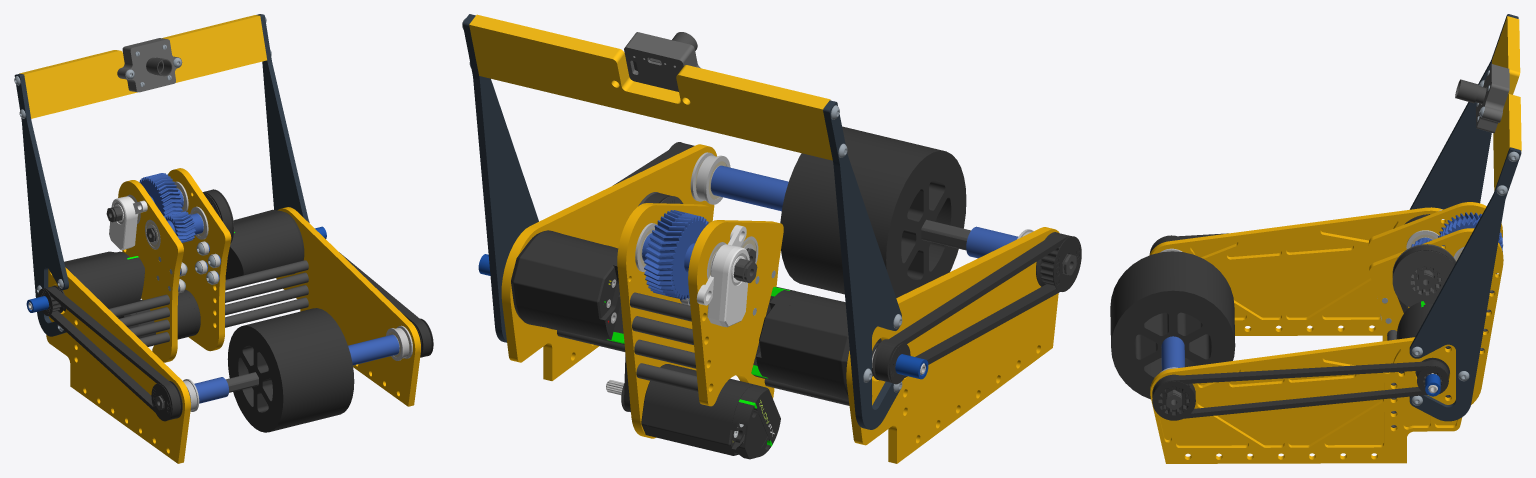
3 renders of one model, left to right at view 1: azimuth 30°, elevation 25°; view 2: azimuth 150°, elevation 25°; view 3: azimuth 270°, elevation 25°, orthographic. The views are drawn at different scales.
Visible parts, largest first — view 1: 157-26-ST-P-8 (×2), 4" Solid Urethane Wheel (45A, 1.5" Wide, 1/2" Hex Bore) (×2), Part 70, Part 69 (×2), Kraken X60 Brushless Motor (×2), 157-26-ST-P-15 (×6), 157-26-ST-P-9, REFERENCE ONLY (×3), 157-26-ST-P-10, New Lid, id30, 157-26-ST-P-5 (+6 smaller); view 2: 157-26-ST-P-8 (×2), Part 70, 4" Solid Urethane Wheel (45A, 1.5" Wide, 1/2" Hex Bore) (×2), Kraken X60 Brushless Motor (×2), Part 69 (×2), 157-26-ST-P-10, Kraken X44 Brushless Motor, 157-26-ST-P-9, REFERENCE ONLY, 157-26-ST-P-11 (×4), 157-26-ST-P-5, id30 (+8 smaller); view 3: 157-26-ST-P-8 (×2), Part 69 (×2), 4" Solid Urethane Wheel (45A, 1.5" Wide, 1/2" Hex Bore) (×2), REFERENCE ONLY (×2), 157-26-ST-P-9, Part 70, 157-26-ST-P-14, 157-26-ST-P-10, 157-26-ST-P-16, Kraken X60 Brushless Motor, New Lid, Base (+4 smaller).
Boxes of the visible parts, <box> form: 157-26-ST-P-8 (×2): <box>46,207,420,463</box>; 4" Solid Urethane Wheel (45A, 1.5" Wide, 1/2" Hex Bore) (×2): <box>227,308,354,432</box>; Part 70: <box>19,15,266,118</box>; Part 69 (×2): <box>14,14,309,336</box>; Kraken X60 Brushless Motor (×2): <box>28,209,304,311</box>; 157-26-ST-P-15 (×6): <box>109,260,308,327</box>; 157-26-ST-P-9: <box>168,168,231,351</box>; REFERENCE ONLY (×3): <box>44,190,431,420</box>; 157-26-ST-P-10: <box>118,180,183,362</box>; New Lid: <box>122,38,182,92</box>; id30: <box>109,196,147,250</box>; 157-26-ST-P-5: <box>139,173,182,218</box>; 157-26-ST-P-8 (×2): <box>501,144,1059,463</box>; Part 70: <box>469,14,832,160</box>; 4" Solid Urethane Wheel (45A, 1.5" Wide, 1/2" Hex Bore) (×2): <box>780,126,966,297</box>; Kraken X60 Brushless Motor (×2): <box>511,230,925,400</box>; Part 69 (×2): <box>462,14,901,429</box>; 157-26-ST-P-10: <box>688,220,783,406</box>; Kraken X44 Brushless Motor: <box>606,364,780,459</box>; 157-26-ST-P-9: <box>617,203,712,438</box>; REFERENCE ONLY: <box>875,233,1071,383</box>; 157-26-ST-P-11 (×4): <box>630,292,698,392</box>; 157-26-ST-P-5: <box>644,210,708,299</box>; id30: <box>696,225,749,327</box>; 157-26-ST-P-8 (×2): <box>1149,207,1462,463</box>; Part 69 (×2): <box>1409,14,1521,421</box>; 4" Solid Urethane Wheel (45A, 1.5" Wide, 1/2" Hex Bore) (×2): <box>1110,251,1235,399</box>; REFERENCE ONLY (×2): <box>1152,245,1455,418</box>; 157-26-ST-P-9: <box>1369,228,1503,404</box>; Part 70: <box>1492,16,1521,190</box>; 157-26-ST-P-14: <box>1392,244,1456,307</box>; 157-26-ST-P-10: <box>1368,202,1502,340</box>; 157-26-ST-P-16: <box>1152,374,1195,420</box>; Kraken X60 Brushless Motor: <box>1396,301,1450,397</box>; New Lid: <box>1476,64,1499,130</box>; Base: <box>1484,66,1509,133</box>.
Size of the model in its own units: 0.3157 by 0.2923 by 0.3365.
